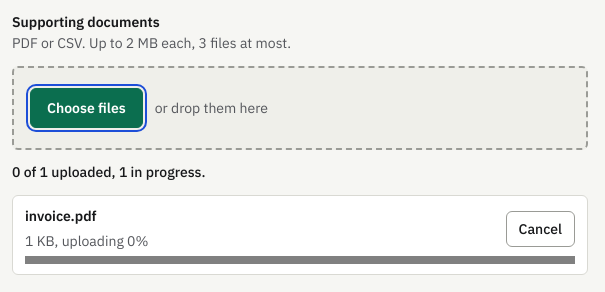
Test case: FileUpload › cancels an in-flight upload by aborting its signal
Earlier steps of the test are not shown.
Click the button with aria-label "Cancel invoice.pdf" at (540, 229), box [506,211,575,247]
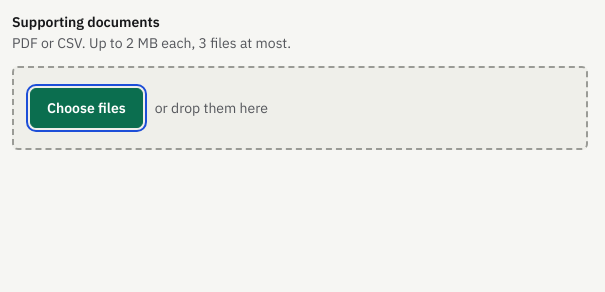
expect the list is gone: met
